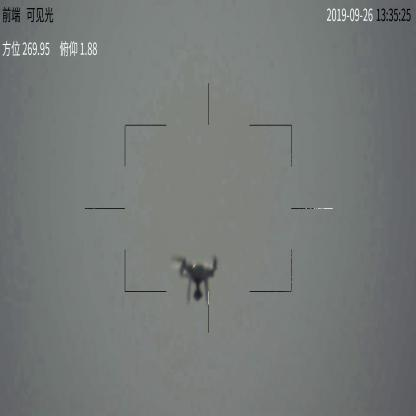uav: (171, 250, 229, 300)
